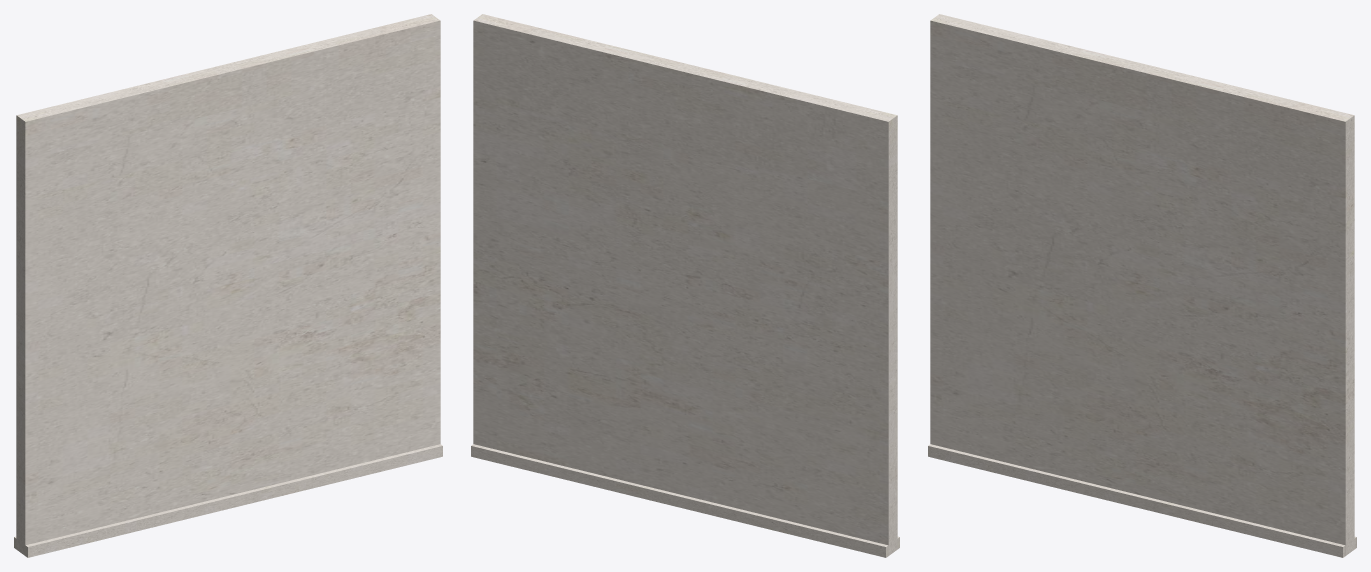
File: Atelier_modular_inside_wall.fbx
3 renders of one model, left to right at view 1: azimuth 30°, elevation 25°; view 2: azimuth 150°, elevation 25°; view 3: azimuth 330°, elevation 25°, orthographic.
Visible parts, largest first — view 1: Atelier_modular_wall; view 2: Atelier_modular_wall; view 3: Atelier_modular_wall.
Part boxes in pixels (x1,y1,x2,y2): Atelier_modular_wall: (14, 14, 442, 557); Atelier_modular_wall: (471, 14, 899, 557); Atelier_modular_wall: (928, 14, 1356, 557).
Size of the model in its own units: 400 by 400 by 23.
Materials: 1 (1 with a texture image).
